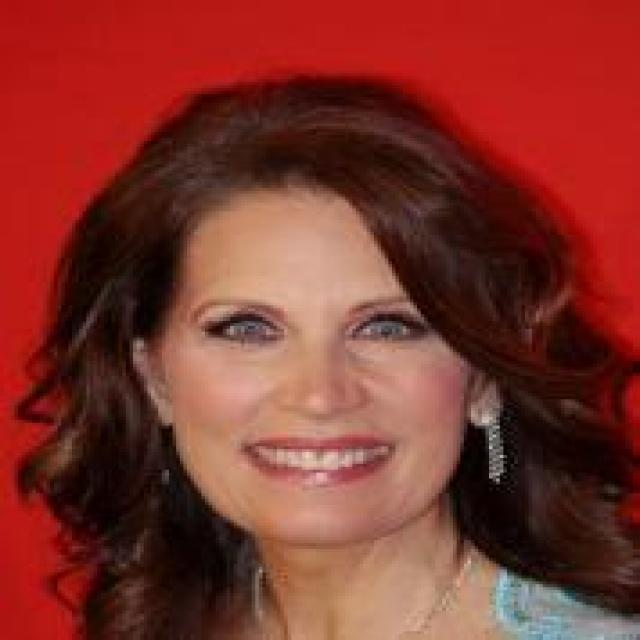nomask: (111, 152, 522, 576)
